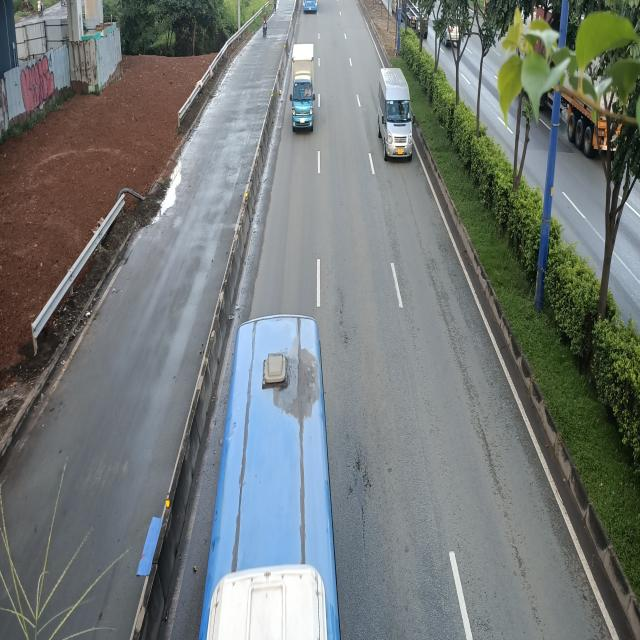coach: (196, 311, 340, 640)
truck: (289, 42, 317, 132)
van: (376, 68, 412, 162)
